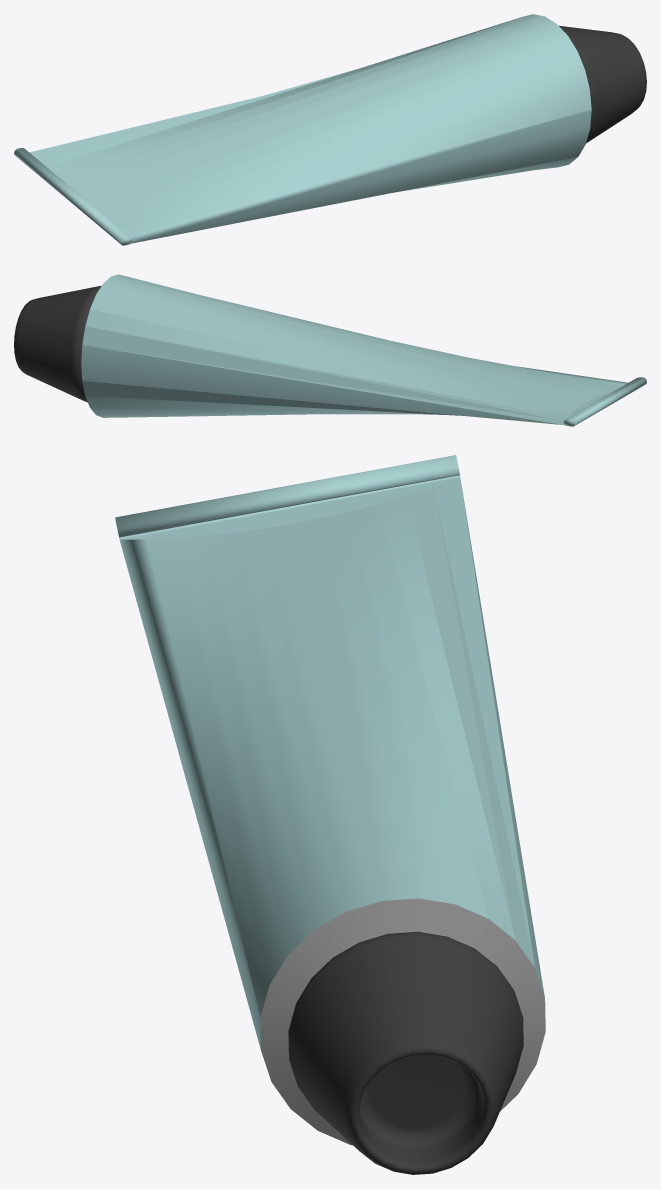
3 renders of one model, top to bottom at view 1: azimuth 30°, elevation 25°; view 2: azimuth 150°, elevation 25°; view 3: azimuth 270°, elevation 25°, orthographic. The views are drawn at different scales.
Parts seen in each view (by area): view 1: SketchUp (×3); view 2: SketchUp (×3); view 3: SketchUp (×4).
Boxes of the visible parts, x1=… form: SketchUp (×3): x1=14, y1=14, x2=646, y2=245; SketchUp (×3): x1=14, y1=274, x2=646, y2=426; SketchUp (×4): x1=115, y1=455, x2=545, y2=1174.
Bounding box in the file's own units: 1058 × 352 × 234.
